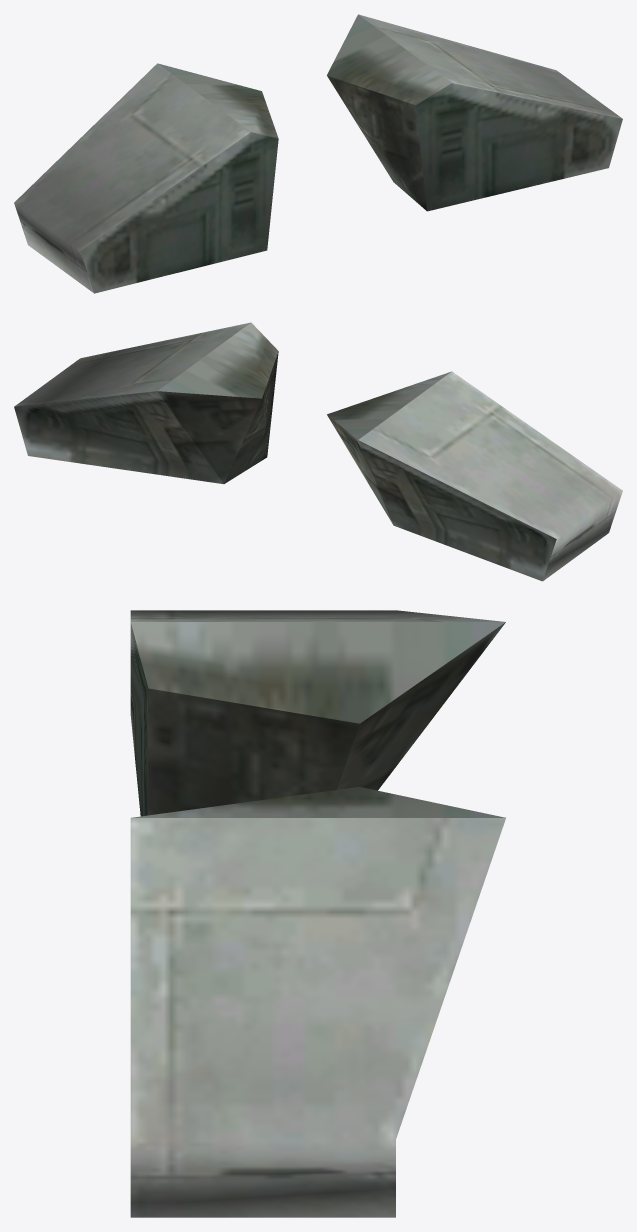
The model's file is black_sun_fighter_light_struct_s01_l3.fbx.
3 renders of one model, top to bottom at view 1: azimuth 30°, elevation 25°; view 2: azimuth 150°, elevation 25°; view 3: azimuth 270°, elevation 25°, orthographic. The views are drawn at different scales.
Visible parts, largest first — view 1: mesh_node; view 2: mesh_node; view 3: mesh_node.
Boxes of the visible parts, bbox=[...] form: mesh_node: bbox=[14, 14, 622, 293]; mesh_node: bbox=[14, 322, 622, 581]; mesh_node: bbox=[130, 610, 505, 1217].
Size of the model in its own units: 12.29 by 2.74 by 3.68.
